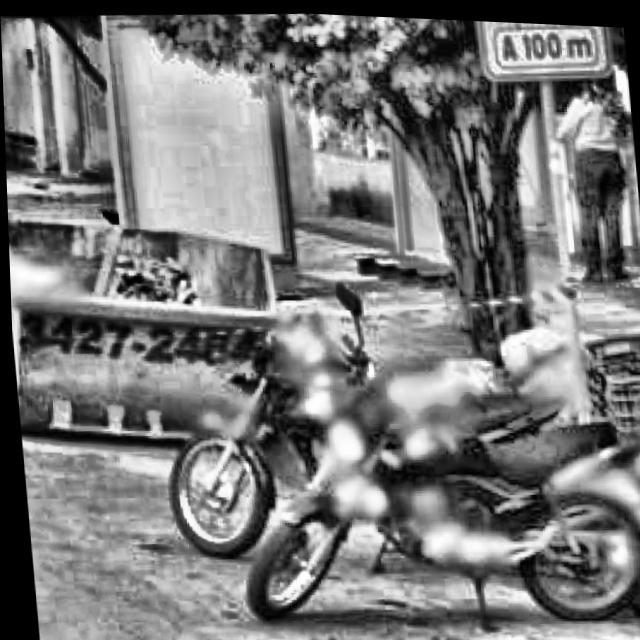motorcycle: (214, 260, 640, 640), (139, 285, 359, 564)
